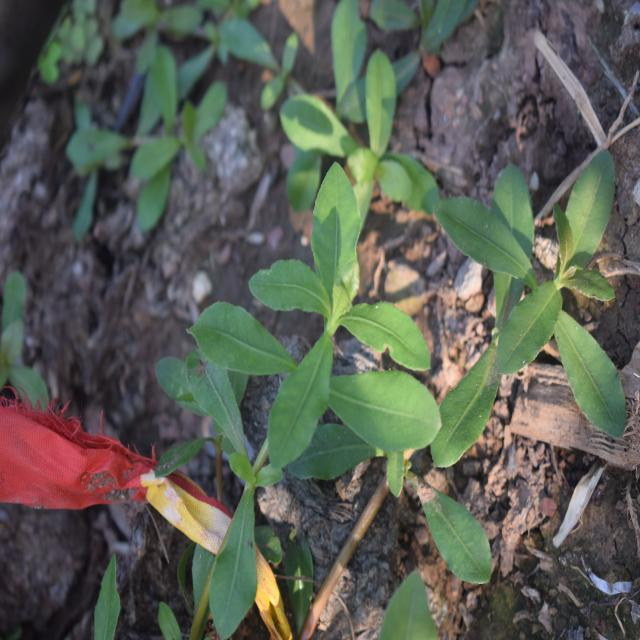Alligatorweed: (144, 199, 451, 507), (402, 105, 619, 470)
